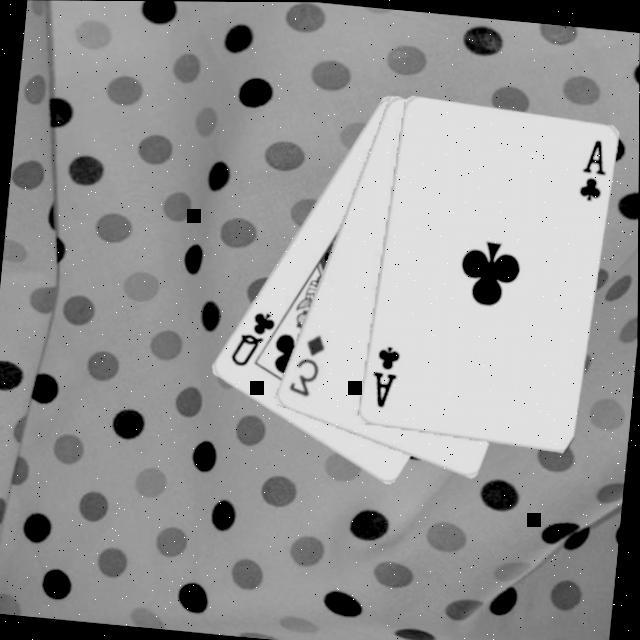3D: (284, 326, 328, 399)
AC: (364, 339, 402, 409), (574, 132, 610, 202)
QC: (225, 304, 278, 369)
